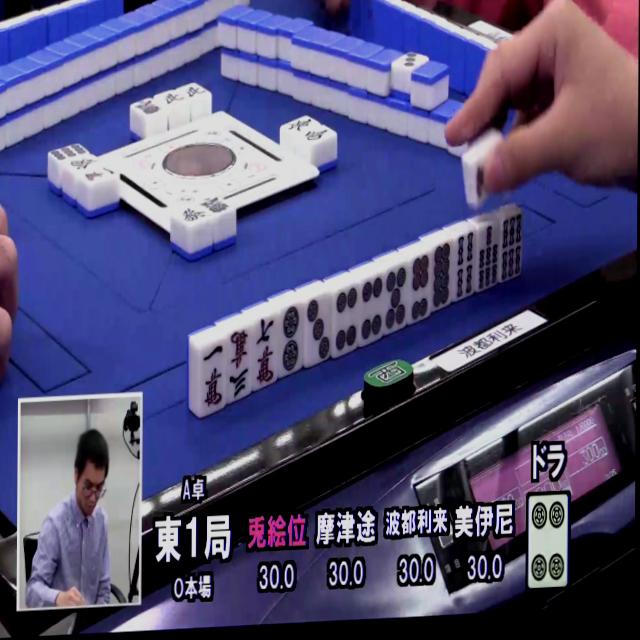m1: (195, 341, 228, 416)
m3: (224, 327, 255, 404)
m7: (251, 313, 283, 390)
s4: (450, 229, 479, 305)
s6: (499, 210, 526, 285)
s7: (475, 222, 501, 293)
t2: (276, 304, 305, 378)
t3: (302, 294, 335, 368)
t4: (526, 490, 573, 588), (332, 284, 363, 359), (358, 272, 388, 346)
t5: (380, 263, 410, 336)
t6: (404, 253, 434, 326)
t8: (430, 240, 457, 312)
